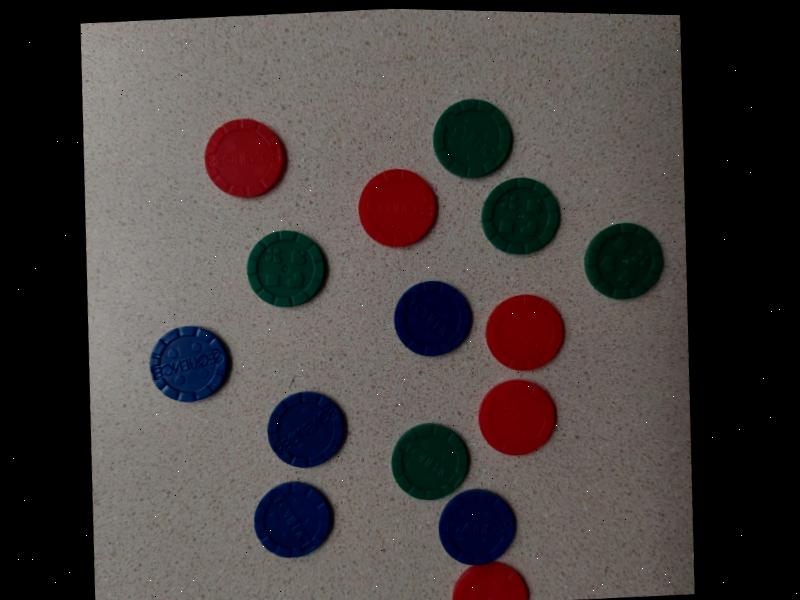Blue_Token: (136, 313, 251, 412), (256, 380, 366, 475), (247, 476, 343, 567), (425, 490, 532, 569), (384, 280, 473, 365)
Green_Token: (230, 215, 342, 319), (572, 210, 678, 315), (423, 100, 525, 194), (381, 413, 478, 510), (474, 172, 561, 270)
Red_Token: (196, 97, 299, 217), (342, 158, 450, 256), (468, 369, 573, 467), (474, 289, 571, 385), (439, 553, 539, 600)
